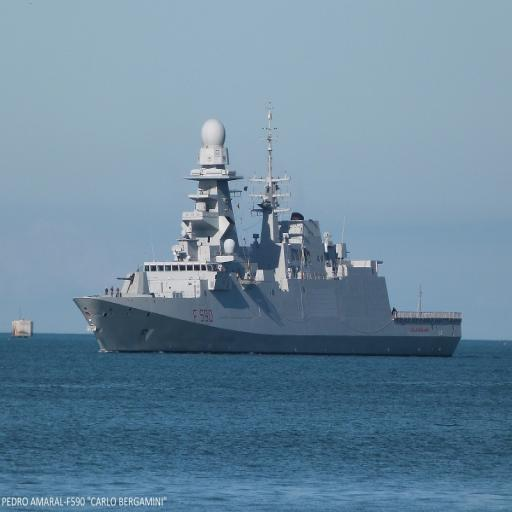Fragata: (63, 93, 470, 360)
